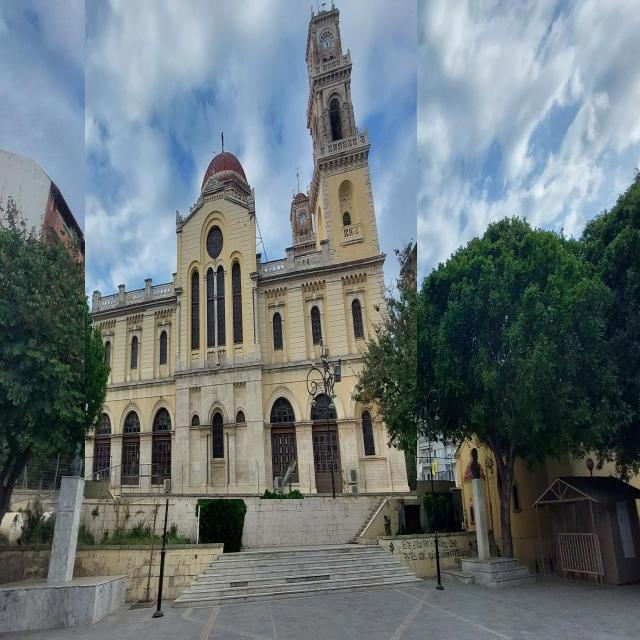Agios Minas: (86, 1, 418, 500)
